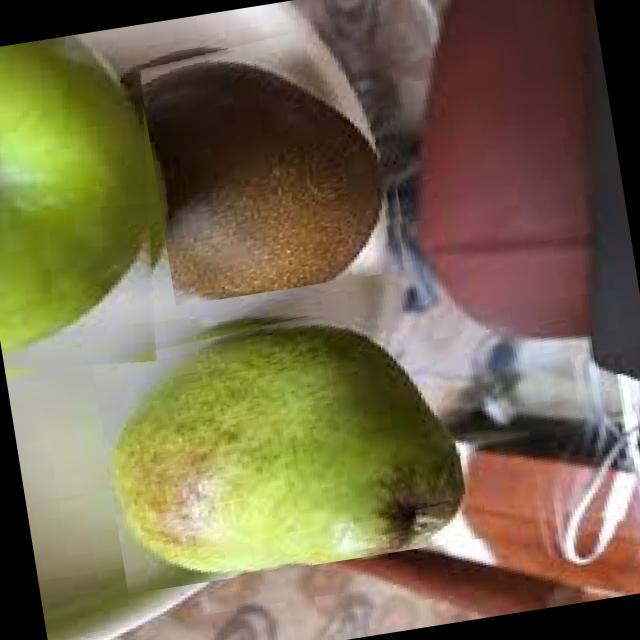Organic: (88, 286, 489, 594), (135, 12, 418, 306), (0, 25, 190, 385)
